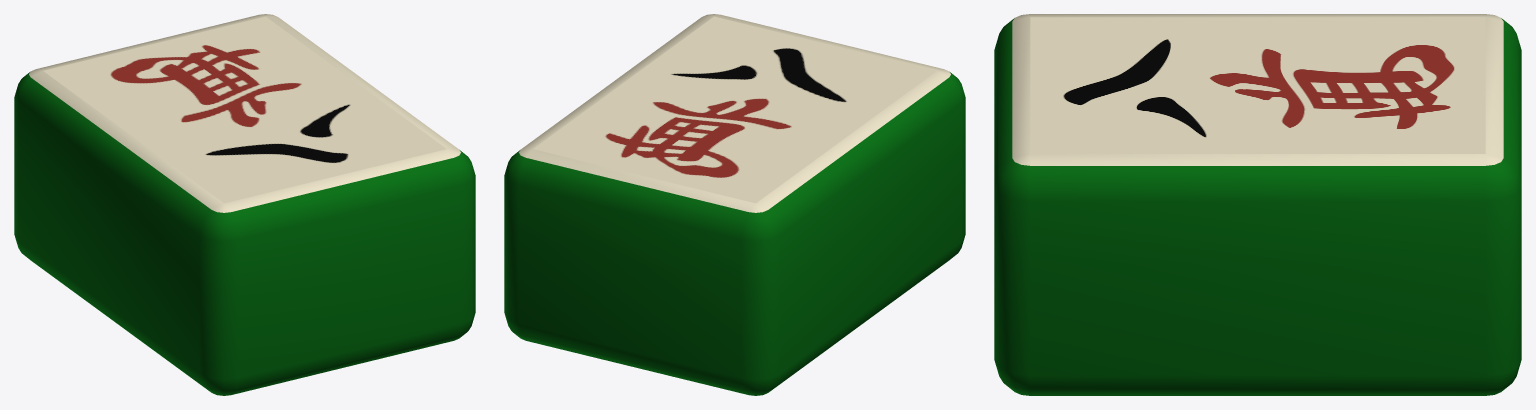
File: Mahjong card model.fbx
3 views of the same model, side by side, from view 1: azimuth 30°, elevation 25°; view 2: azimuth 150°, elevation 25°; view 3: azimuth 270°, elevation 25° (orthographic). The views are drawn at different scales.
Parts seen in each view (by area): view 1: tile 1.021; view 2: tile 1.021; view 3: tile 1.021.
Boxes of the visible parts, x1,y1,x2,y2 form: tile 1.021: (14,14,475,395); tile 1.021: (504,14,965,395); tile 1.021: (994,14,1521,395).
Size of the model in its own units: 3.3 by 4.4 by 2.2.
